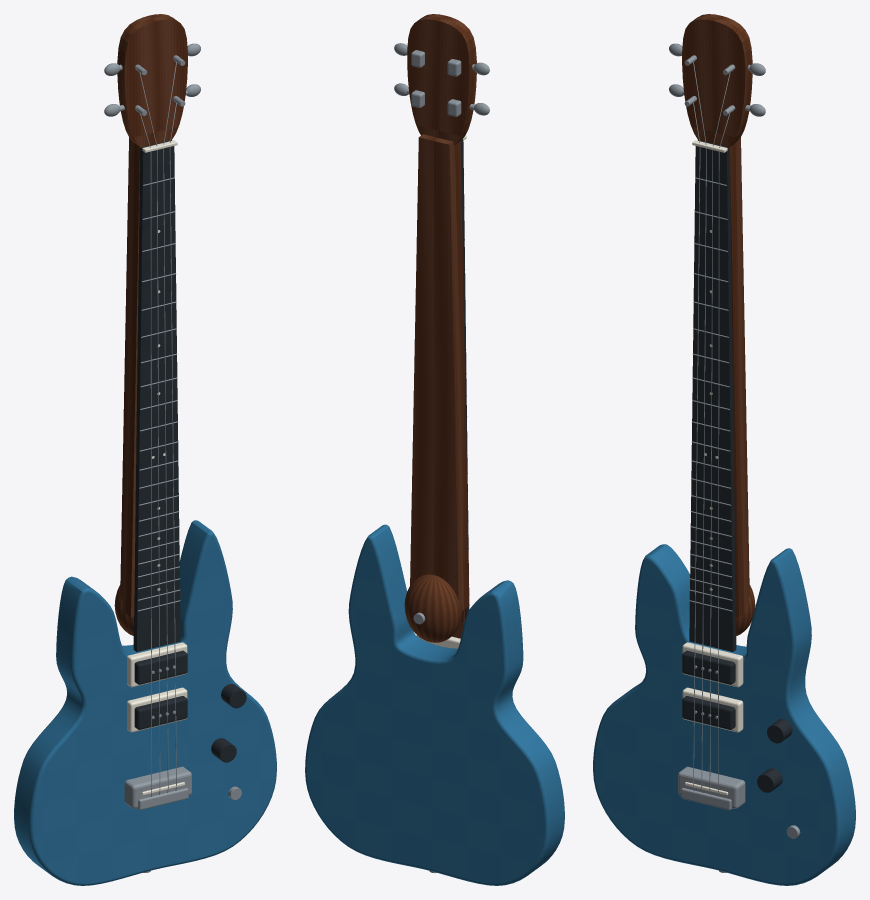
The model's file is four-string-bass-guitar.glb.
The picture shows the model from 3 angles, left to right: view 1: azimuth 30°, elevation 25°; view 2: azimuth 150°, elevation 25°; view 3: azimuth 330°, elevation 25°; orthographic projection.
Parts seen in each view (by area): view 1: Original carved solid instrument body, Individually fretted fingerboard, Original tapered headstock, Tapered maple neck, Bridge base, Pickup cover.001, Pickup cover, String 03, String 02, String 04, String 01, Pickup mounting ring (+2 smaller); view 2: Original carved solid instrument body, Tapered maple neck, Original tapered headstock, Seated neck heel, Individually fretted fingerboard; view 3: Original carved solid instrument body, Individually fretted fingerboard, Original tapered headstock, Tapered maple neck, Bridge base, Pickup cover.001, Pickup cover, String 02, String 04, String 03, String 01, Pickup mounting ring.001 (+2 smaller).
Boxes of the visible parts, x1,y1,x2,y2 form: Original carved solid instrument body: [14, 520, 276, 885]; Individually fretted fingerboard: [133, 140, 180, 651]; Original tapered headstock: [117, 14, 187, 147]; Tapered maple neck: [120, 137, 180, 617]; Bridge base: [124, 766, 191, 808]; Pickup cover.001: [134, 650, 187, 684]; Pickup cover: [134, 696, 187, 729]; String 03: [163, 62, 176, 792]; String 02: [139, 73, 160, 794]; String 04: [169, 103, 176, 790]; String 01: [140, 113, 151, 796]; Pickup mounting ring: [127, 687, 187, 732]; Original carved solid instrument body: [305, 524, 564, 885]; Tapered maple neck: [410, 134, 469, 610]; Original tapered headstock: [407, 14, 476, 145]; Seated neck heel: [404, 574, 462, 642]; Individually fretted fingerboard: [460, 139, 469, 618]; Original carved solid instrument body: [593, 544, 855, 885]; Individually fretted fingerboard: [689, 140, 736, 651]; Original tapered headstock: [682, 14, 752, 147]; Tapered maple neck: [689, 137, 749, 617]; Bridge base: [678, 766, 745, 808]; Pickup cover.001: [682, 650, 735, 684]; Pickup cover: [682, 696, 735, 729]; String 02: [693, 62, 706, 792]; String 04: [718, 113, 729, 796]; String 03: [709, 72, 730, 794]; String 01: [693, 103, 700, 790]; Pickup mounting ring.001: [682, 642, 743, 687].
Size of the model in its own units: 0.3498 by 1.16 by 0.0925.
Materials: 5 (5 with a texture image).
